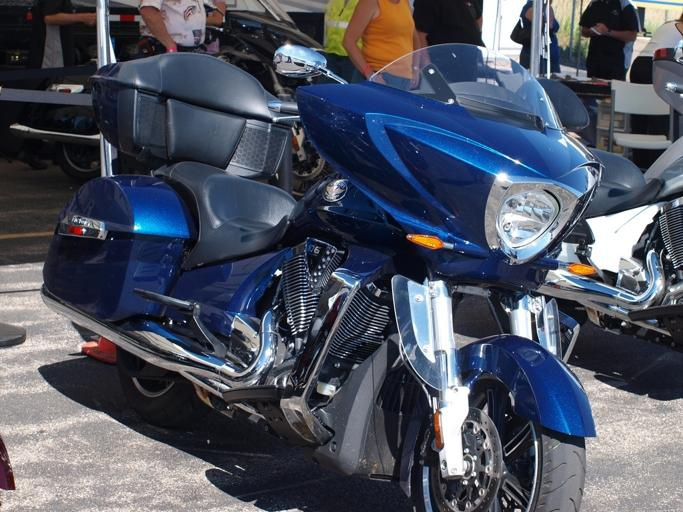non-vehicle: (36, 43, 607, 512), (443, 37, 683, 363), (0, 0, 353, 200)
